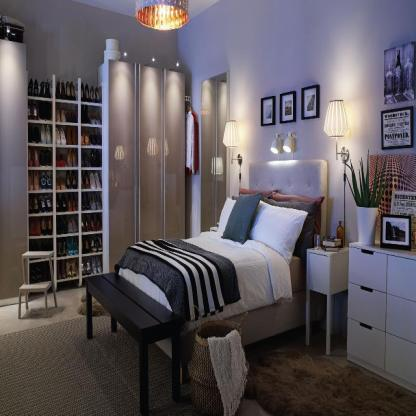Bed: (116, 159, 329, 385)
Sideboard: (349, 245, 416, 392)
